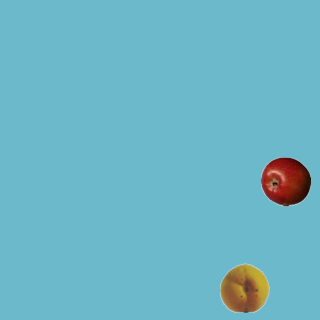Apple Braeburn: (260, 156, 310, 206)
Peach 2: (219, 262, 269, 312)
